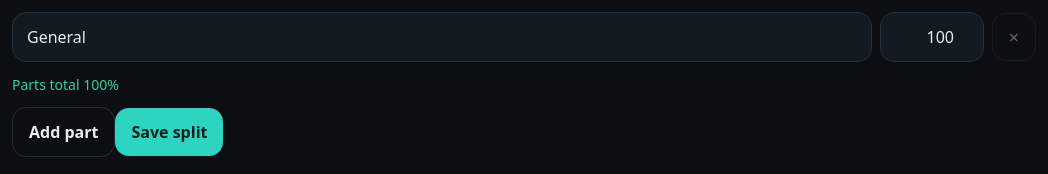
Scenario: PartEditor › blocks saving and shows the shortfall when parts do not total 100%
Replace the text in the number field named "Part 1 percentage" with "90" at (932, 37), box [880,12,984,62]
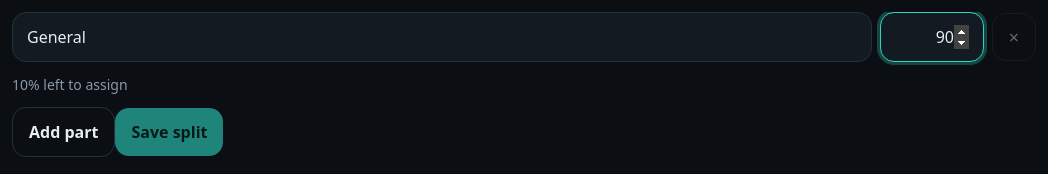
expect the button "Save split" is disabled: met, box [116,108,224,156]
expect the text "10% left to assign" is shown: met, box [12,75,128,94]
